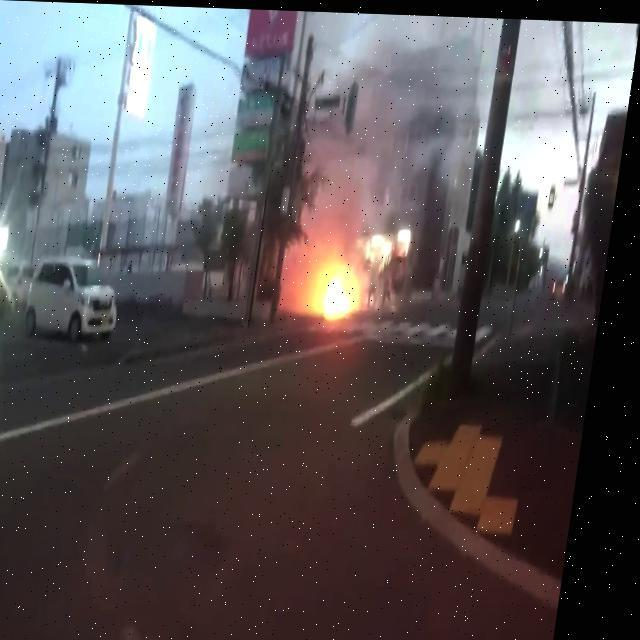Fire: (328, 270, 368, 317)
